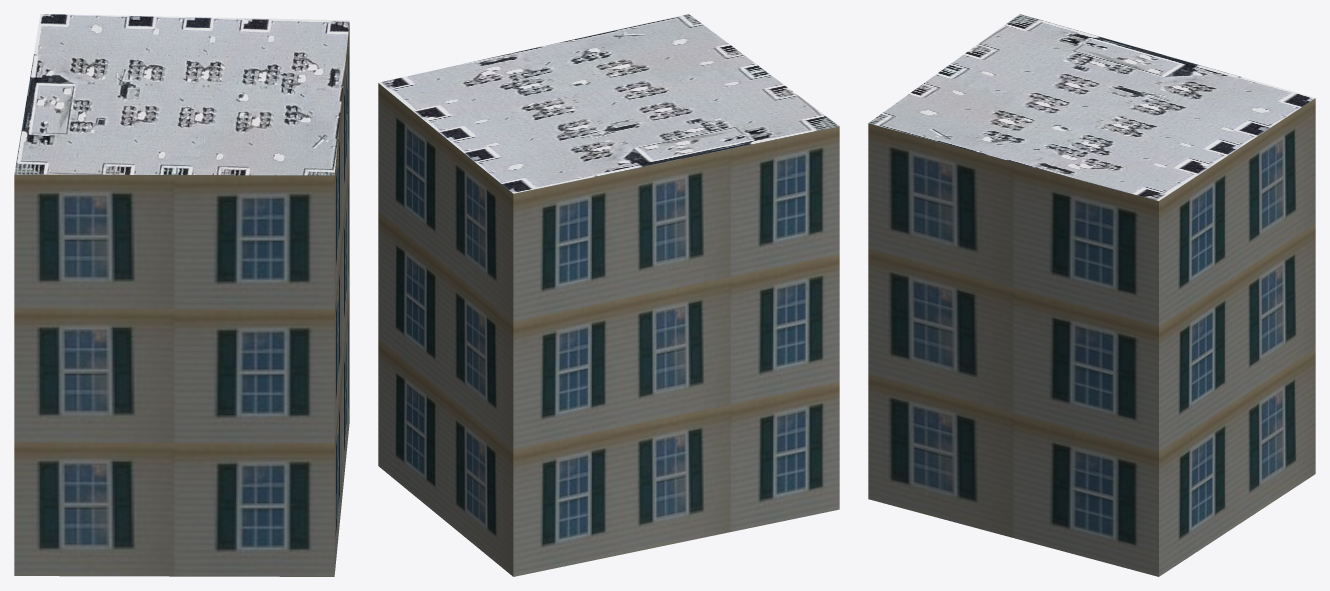
Rendered from ResTex__3646.fbx.
3 renders of one model, left to right at view 1: azimuth 30°, elevation 25°; view 2: azimuth 150°, elevation 25°; view 3: azimuth 270°, elevation 25°, orthographic. The views are drawn at different scales.
Parts seen in each view (by area): view 1: CityEngineMaterial_7_m, CityEngineMaterial_m; view 2: CityEngineMaterial_7_m, CityEngineMaterial_m; view 3: CityEngineMaterial_7_m, CityEngineMaterial_m.
Boxes of the visible parts, box(x1,y1,x2,y2) form: CityEngineMaterial_7_m: box(14, 23, 349, 576); CityEngineMaterial_m: box(14, 14, 349, 175); CityEngineMaterial_7_m: box(378, 83, 839, 576); CityEngineMaterial_m: box(378, 14, 839, 193); CityEngineMaterial_7_m: box(868, 98, 1315, 576); CityEngineMaterial_m: box(868, 14, 1315, 200).
Size of the model in its own units: 9.61 by 9 by 9.71.
2 materials, 2 textured.
